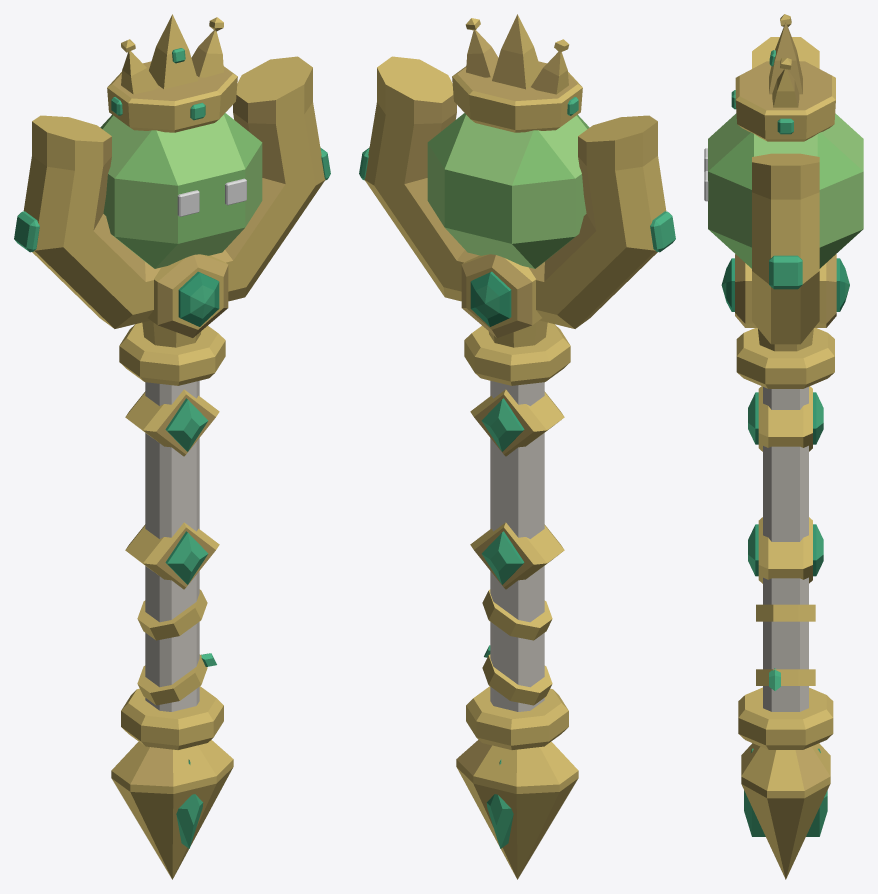
File: slime_crown_staff_roblox.glb
The picture shows the model from 3 angles, left to right: view 1: azimuth 30°, elevation 25°; view 2: azimuth 150°, elevation 25°; view 3: azimuth 270°, elevation 25°; orthographic projection.
Visible parts, largest first — view 1: Staff, Gems; view 2: Staff; view 3: Staff.
Boxes of the visible parts, x1,y1,x2,y2 form: Staff: (14,14,330,879); Gems: (177,178,246,216); Staff: (359,14,675,879); Staff: (708,14,863,879).
Size of the model in its own units: 0.5155 by 1.4 by 0.2355.
